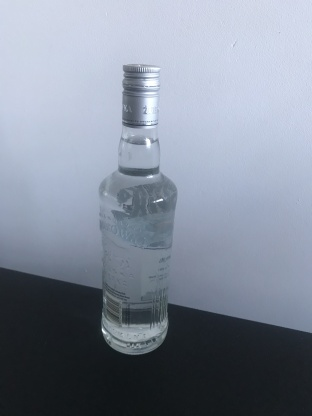nakretka: (120, 62, 161, 129)
